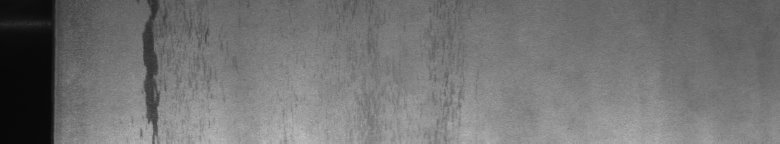hd: (140, 4, 160, 136)
